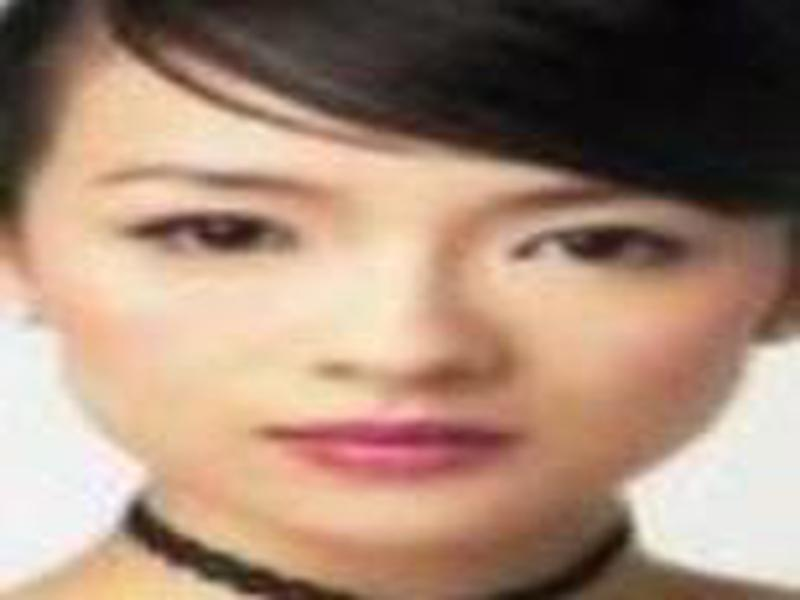without_mask: (14, 46, 793, 548)
